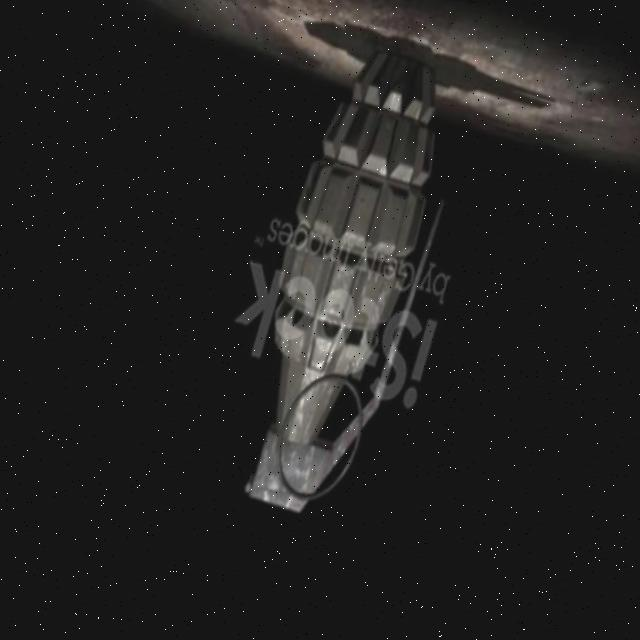grenade: (175, 13, 510, 553)
